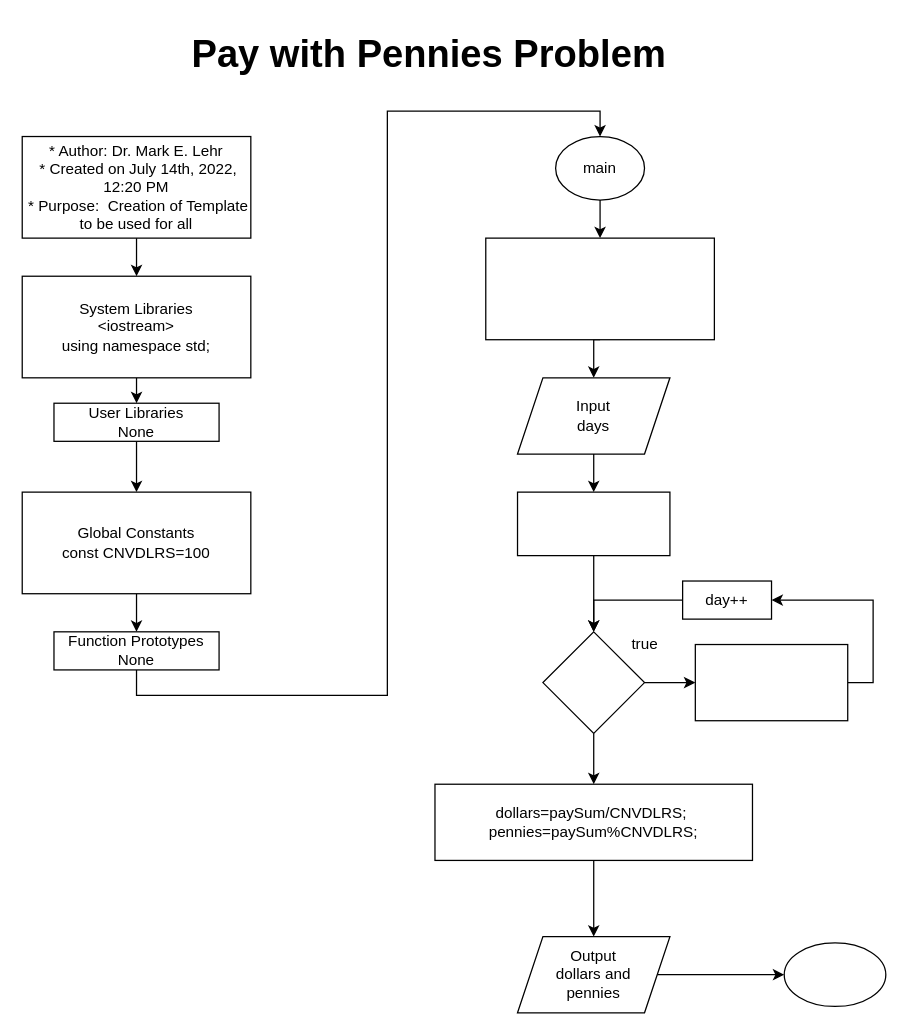
The diagram is 908 pixels wide and 1035 high, and some of its shapes have lost their labels. Here are the shapes that lost their labels. From the top down, the box of each, then its label:
(485, 237, 714, 340): Declare Variables days,payDay,paySum;
(516, 491, 670, 556): payDay=1; paySum=payDay; day=2
(542, 631, 645, 733): day<=days
(694, 643, 848, 721): payDay*=2; paySum+=payDay;
(783, 942, 886, 1006): return
